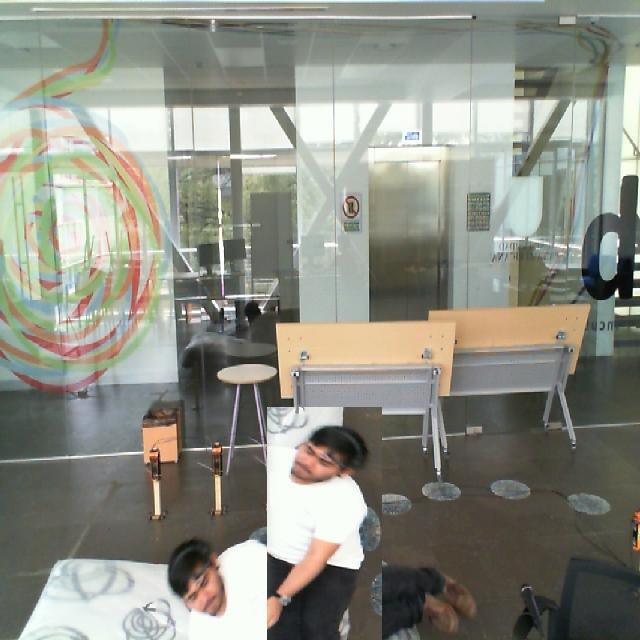Fall: (170, 421, 452, 640)
